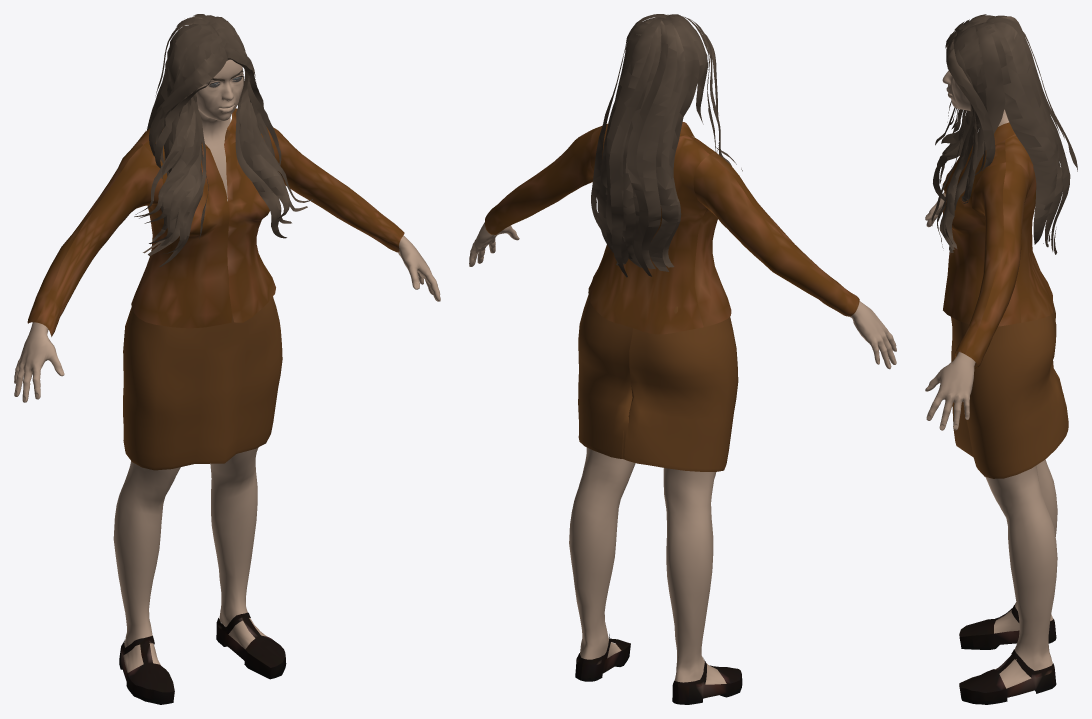
Rendered from 0009-People-cast-cooked-mh-44.glb.
3 renders of one model, left to right at view 1: azimuth 30°, elevation 25°; view 2: azimuth 150°, elevation 25°; view 3: azimuth 270°, elevation 25°, orthographic.
Visible parts, largest first — view 1: People: cast (cooked)/mh_44; view 2: People: cast (cooked)/mh_44; view 3: People: cast (cooked)/mh_44.
Part boxes in pixels (x1=…): People: cast (cooked)/mh_44: x1=14, y1=14, x2=440, y2=704; People: cast (cooked)/mh_44: x1=469, y1=14, x2=896, y2=704; People: cast (cooked)/mh_44: x1=925, y1=14, x2=1077, y2=704.
Bounding box in the file's own units: 1.14 × 1.72 × 0.3648.
